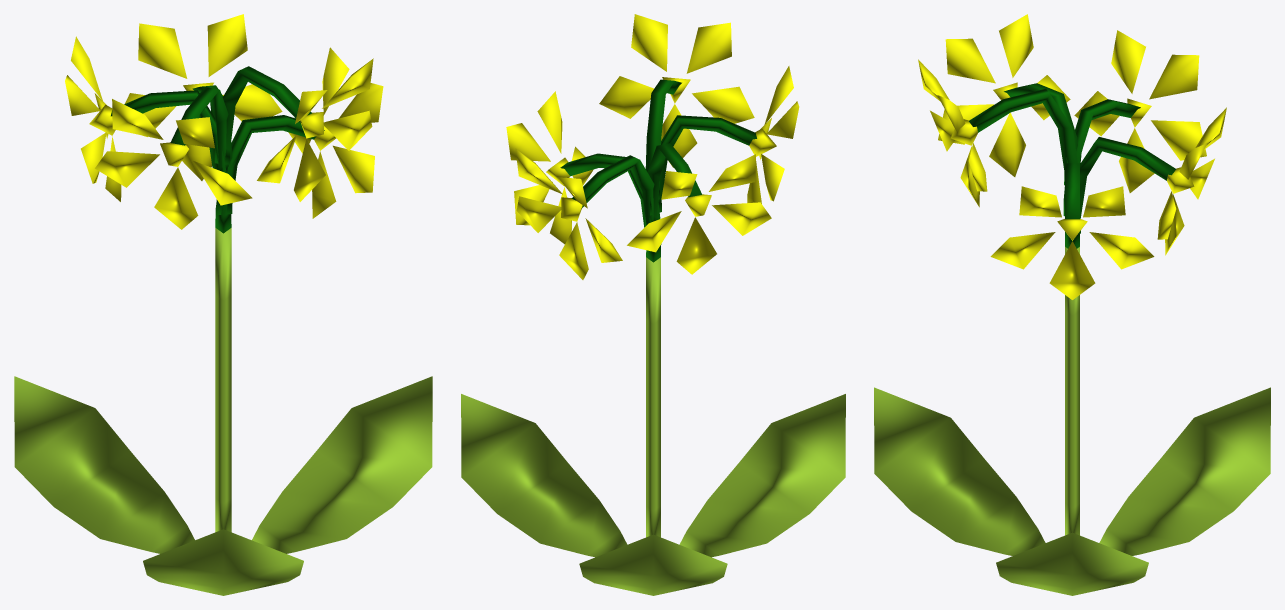
File: primrose_0005.obj
The picture shows the model from 3 angles, left to right: view 1: azimuth 30°, elevation 25°; view 2: azimuth 150°, elevation 25°; view 3: azimuth 270°, elevation 25°; orthographic projection. The views are drawn at different scales.
Parts seen in each view (by area): view 1: primrose_0005; view 2: primrose_0005; view 3: primrose_0005.
Part boxes in pixels (x1,y1,x2,y2): primrose_0005: [14, 14, 432, 595]; primrose_0005: [461, 14, 845, 595]; primrose_0005: [874, 14, 1270, 595].
Size of the model in its own units: 2.19 by 3.17 by 2.24.
1 material, 1 textured.
